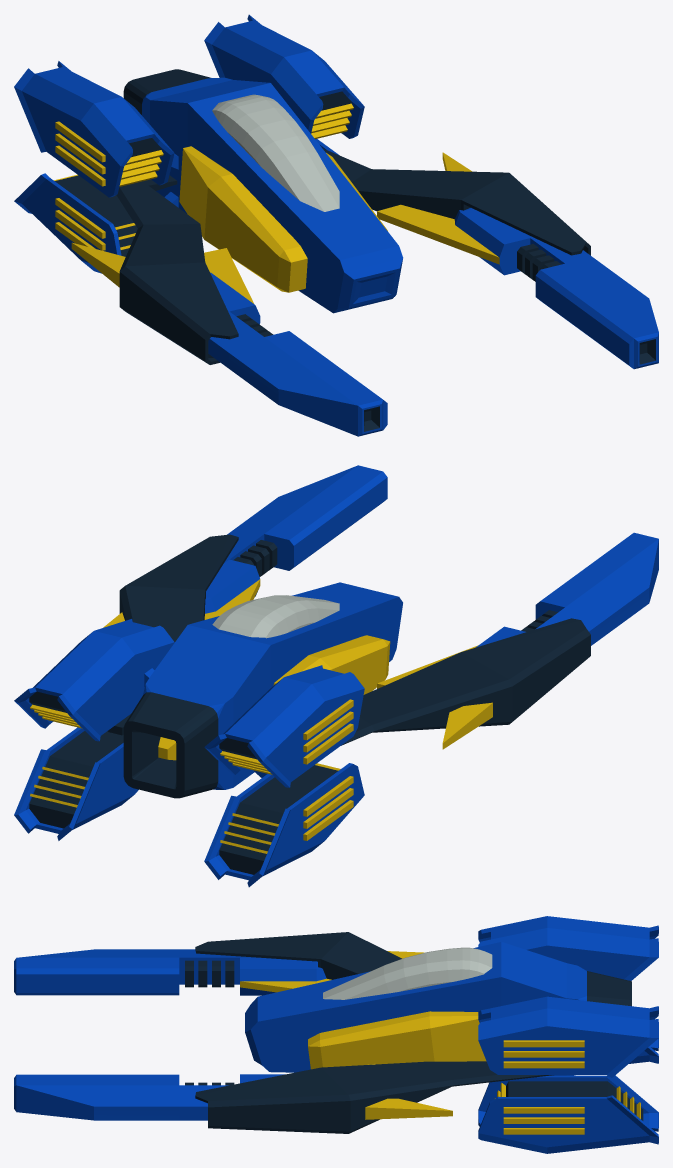
File: Enemie_Ship_Fighter_03.fbx
3 views of the same model, one above another, from view 1: azimuth 30°, elevation 25°; view 2: azimuth 150°, elevation 25°; view 3: azimuth 270°, elevation 25° (orthographic). The views are drawn at different scales.
Parts seen in each view (by area): view 1: Enimie Ship Fighter 03; view 2: Enimie Ship Fighter 03; view 3: Enimie Ship Fighter 03.
Part boxes in pixels (x1,y1,x2,y2): Enimie Ship Fighter 03: (14, 14, 658, 436); Enimie Ship Fighter 03: (14, 465, 658, 887); Enimie Ship Fighter 03: (14, 916, 658, 1153).
Bounding box in the file's own units: 282 × 121 × 462.
